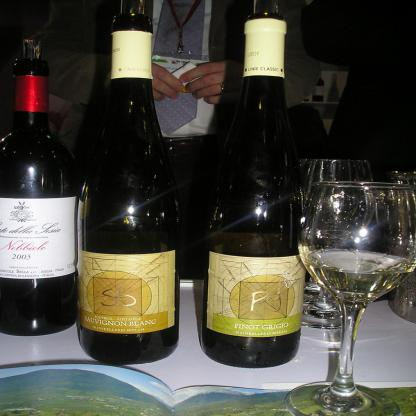drinking: (199, 10, 311, 368), (76, 13, 180, 365), (285, 181, 415, 415), (0, 58, 83, 336)
